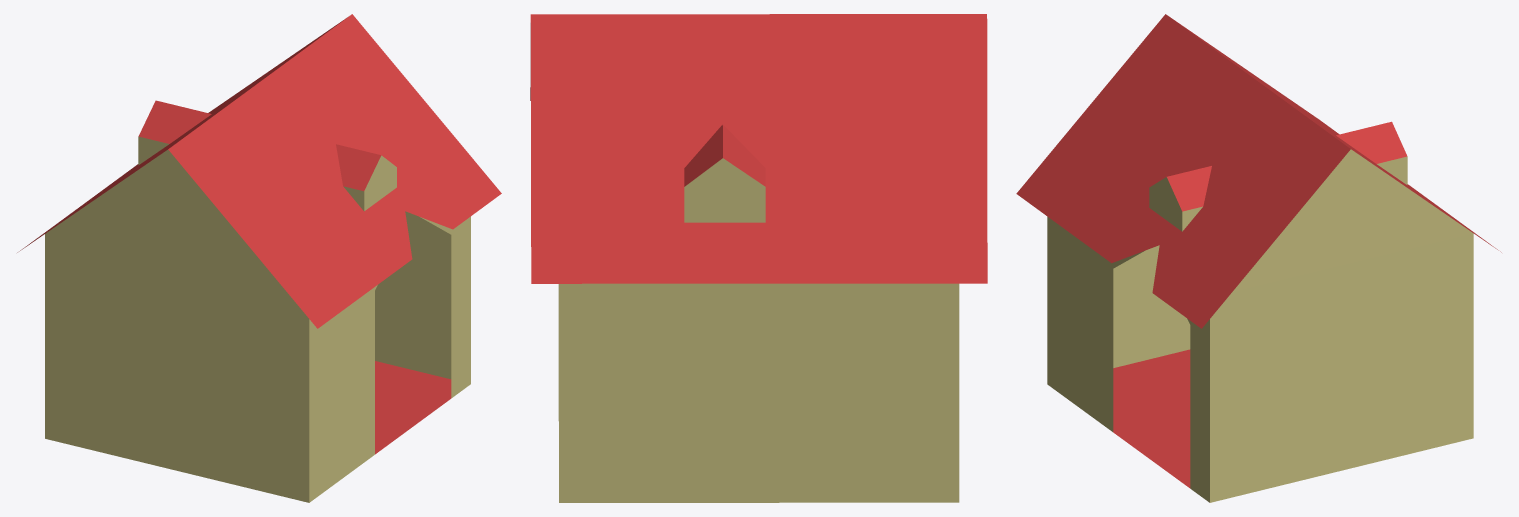
The picture shows the model from 3 angles, left to right: view 1: azimuth 30°, elevation 25°; view 2: azimuth 150°, elevation 25°; view 3: azimuth 270°, elevation 25°; orthographic projection. The views are drawn at different scales.
Bounding box in the file's own units: 16.37 × 16.13 × 12.04.
